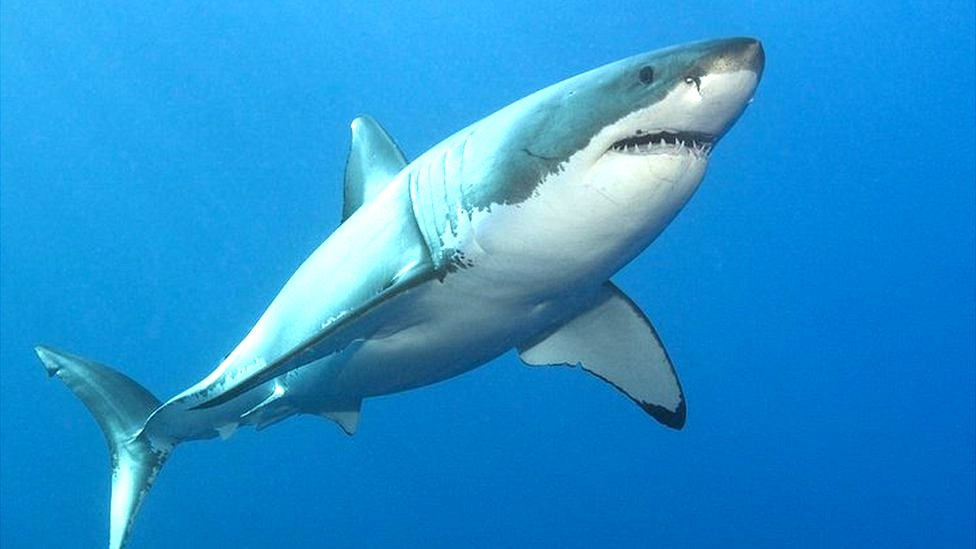Shark: (32, 40, 762, 545)
